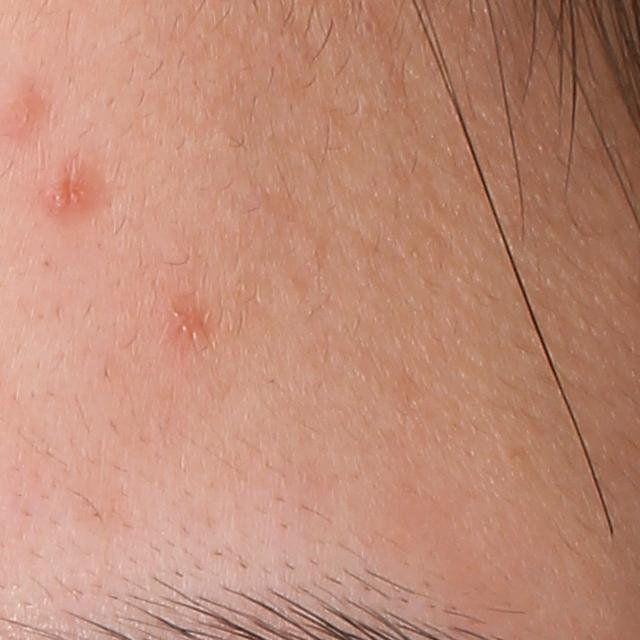papule: (36, 161, 105, 220)
